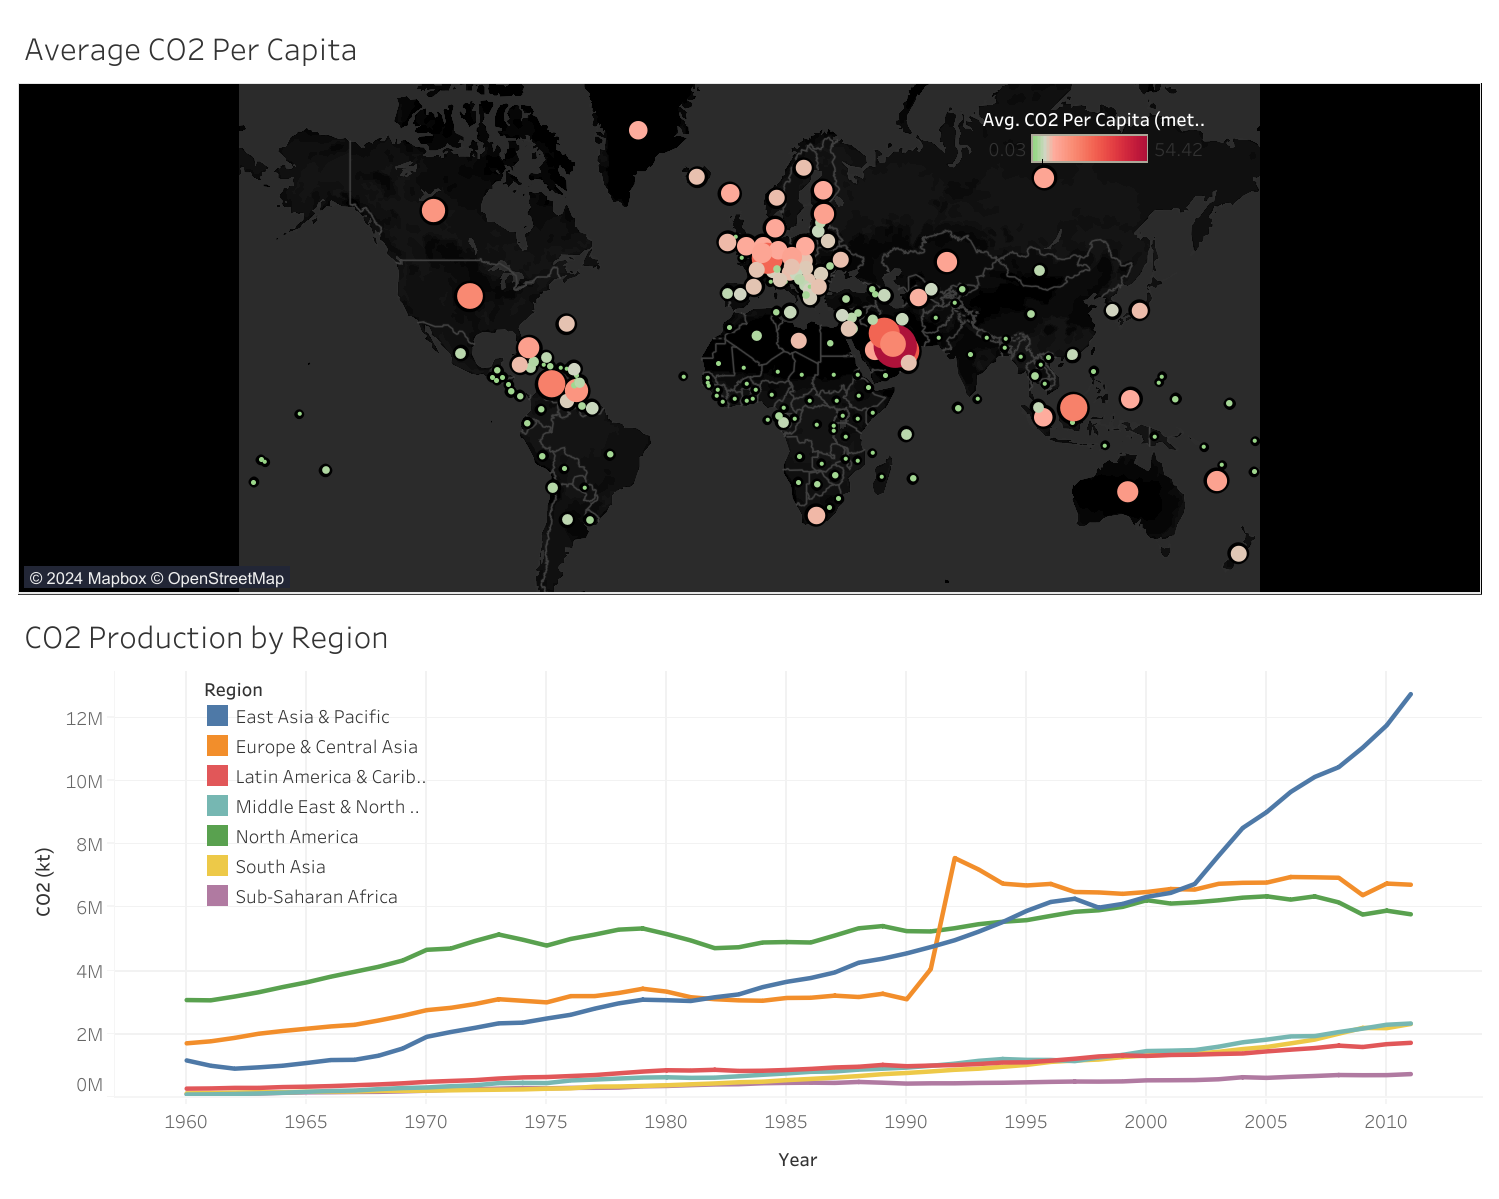

The dashboard page shown, as its layout file describes it:
{"tool":"tableau","page":{"name":"Dashboard 1","canvas":[1000,800],"ordinal":0},"visuals":[{"type":"worksheet","title":"Map","mark":"Automatic","box":[8,8,984,392]},{"type":"legend","title":"Map","param":"[federated.0wxolhj0jjlbs513f56uq12nf5sp].[avg:CO2 Per Capita (metric tons):qk]","box":[655,66,152,79]},{"type":"worksheet","title":"line","mark":"Automatic","rows":["CO2 (kt)"],"cols":["Year"],"box":[8,400,984,392]},{"type":"legend","title":"line","param":"[federated.0wxolhj0jjlbs513f56uq12nf5sp].[none:Region:nk]","box":[135,448,152,159]}]}

Visuals, with their boxes in screenshot pixels (x1, y1, x2, y2), scaled from the page's 1000x800 canvas onto the 1499x1199 screenshot:
"Map" worksheet: 12 12 1487 600
"Map" legend: 982 99 1210 217
"line" worksheet: 12 600 1487 1187
"line" legend: 202 671 430 910
